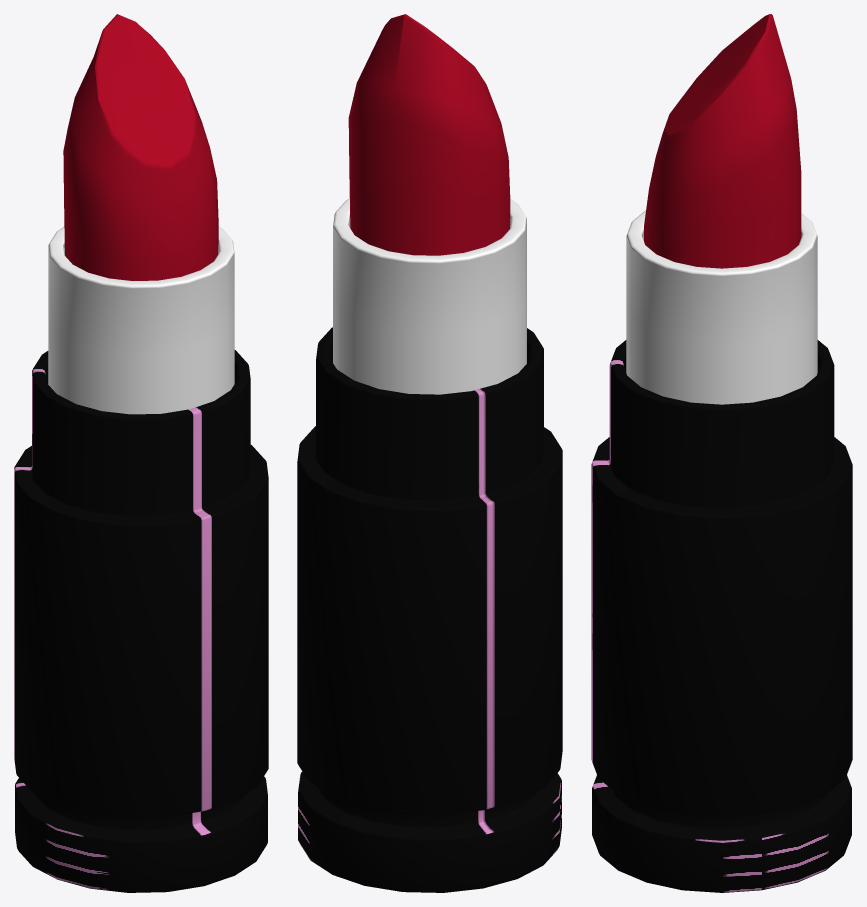
Rendered from Lipstick.glb.
3 views of the same model, side by side, from view 1: azimuth 30°, elevation 25°; view 2: azimuth 150°, elevation 25°; view 3: azimuth 270°, elevation 25° (orthographic). The views are drawn at different scales.
Parts seen in each view (by area): view 1: Lipstick_Mesh_; view 2: Lipstick_Mesh_; view 3: Lipstick_Mesh_.
Boxes of the visible parts, x1,y1,x2,y2 form: Lipstick_Mesh_: (14,14,268,892); Lipstick_Mesh_: (297,14,562,892); Lipstick_Mesh_: (591,14,852,892).
Size of the model in its own units: 0.0168 by 0.0585 by 0.0168.
3 materials, 1 textured.
